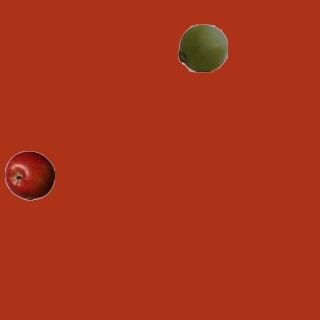Apple Braeburn: (4, 150, 54, 200)
Grape White 4: (177, 22, 227, 72)
